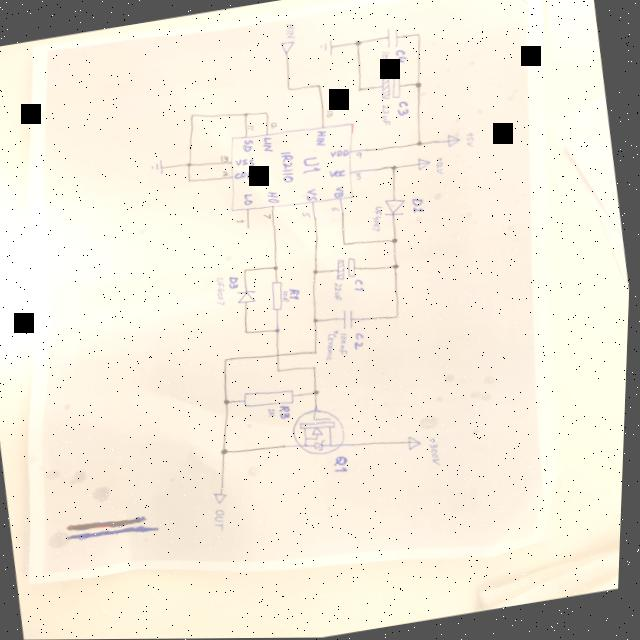capacitor: (378, 72, 405, 101), (336, 256, 361, 281), (382, 27, 401, 50), (341, 308, 358, 330)
crossover: (275, 352, 285, 359)
diode: (383, 197, 410, 219), (236, 288, 260, 305)
ground: (318, 40, 335, 59), (151, 159, 165, 177)
junction: (413, 81, 424, 90), (224, 399, 235, 407), (222, 448, 232, 456), (391, 237, 401, 245), (313, 389, 323, 397), (312, 269, 322, 276), (245, 329, 253, 337), (415, 141, 424, 148), (393, 263, 402, 270), (274, 327, 283, 334), (353, 40, 362, 47), (313, 318, 322, 325), (390, 165, 399, 172), (273, 265, 282, 272), (277, 368, 286, 375), (356, 87, 365, 94), (312, 365, 321, 372), (186, 161, 194, 168), (223, 358, 232, 364), (242, 268, 250, 274), (189, 113, 196, 119), (342, 241, 349, 247), (414, 33, 421, 39), (315, 350, 322, 356), (243, 112, 250, 118), (315, 83, 322, 89), (263, 111, 270, 117), (396, 315, 403, 320), (187, 178, 194, 183), (286, 87, 293, 92)
resistor: (244, 386, 297, 412), (268, 280, 288, 312)
source: (409, 435, 426, 452), (446, 132, 463, 148), (416, 156, 433, 172)
terminal: (279, 41, 297, 56), (215, 491, 233, 505)
text: (278, 151, 300, 184), (213, 276, 233, 308), (298, 155, 325, 177), (324, 332, 341, 362), (369, 205, 387, 233), (214, 508, 233, 532), (430, 437, 445, 467), (334, 454, 354, 475), (377, 50, 393, 76), (337, 332, 353, 357), (234, 168, 260, 183), (379, 103, 394, 128), (314, 129, 331, 149), (260, 135, 277, 154), (411, 197, 428, 215), (395, 100, 412, 118), (354, 332, 369, 352), (233, 156, 256, 169), (333, 282, 347, 303), (330, 148, 352, 160), (434, 157, 447, 177), (266, 190, 282, 206), (393, 49, 408, 66), (283, 23, 297, 41), (305, 188, 321, 203), (228, 275, 243, 291), (280, 404, 295, 420), (330, 168, 349, 180), (241, 139, 256, 154), (465, 132, 478, 149), (353, 278, 367, 293), (242, 192, 256, 206), (289, 287, 303, 301), (333, 186, 347, 199), (282, 290, 293, 303), (324, 110, 336, 119), (302, 211, 313, 220), (220, 155, 231, 164), (270, 407, 279, 418), (270, 121, 280, 130), (330, 206, 341, 214), (247, 124, 256, 133), (356, 152, 365, 161), (355, 173, 364, 182), (236, 219, 247, 226), (264, 214, 273, 221), (222, 171, 231, 178)
transistor: (291, 405, 352, 460)
